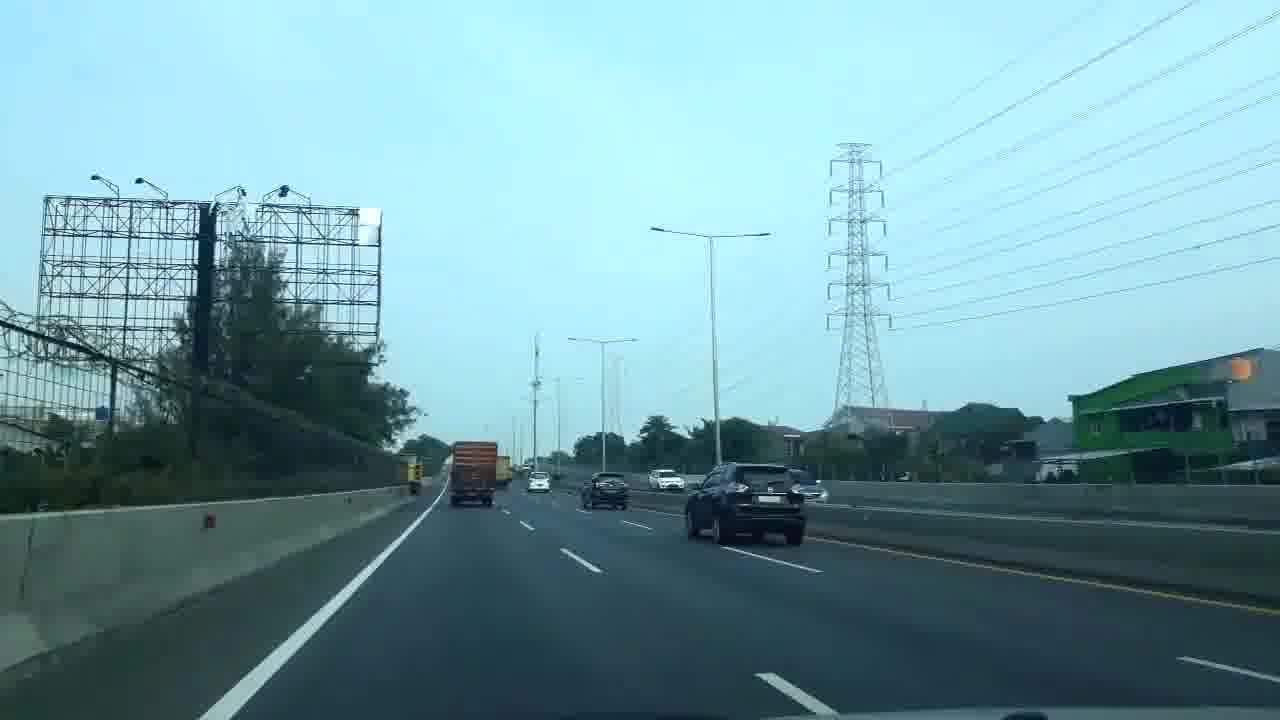plate_positive: (758, 495, 781, 503)
